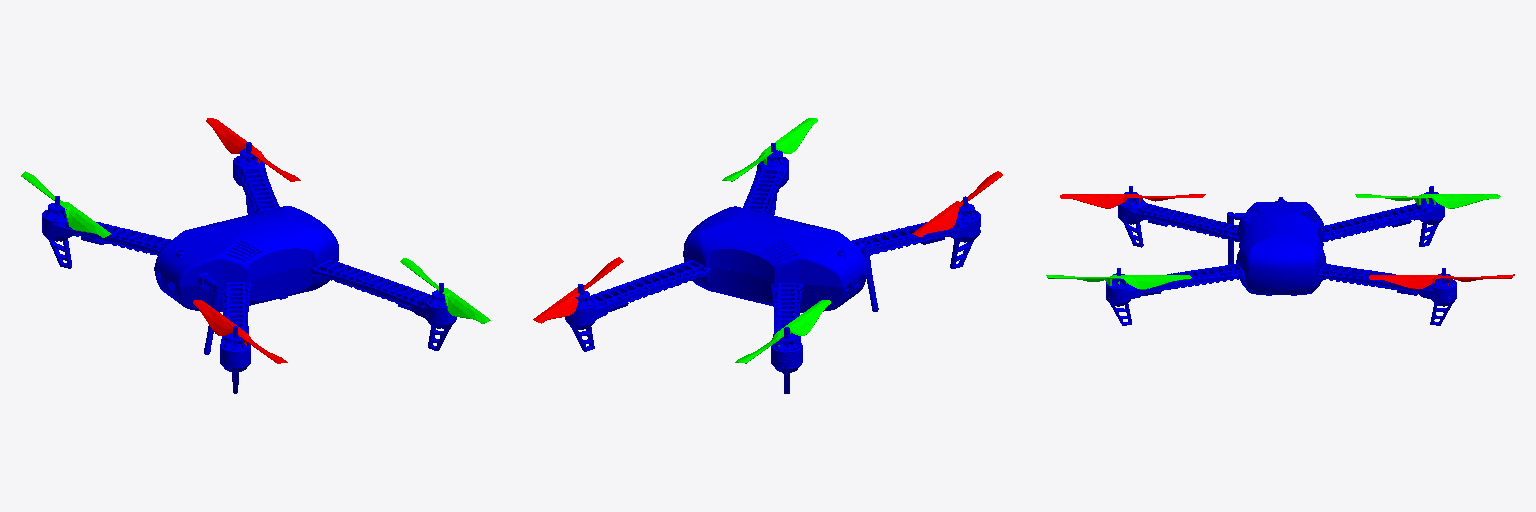
The robot description file, URDF, robot "iris":
<?xml version="1.0" ?>
<!-- =================================================================================== -->
<!-- |    This document was autogenerated by xacro from [local-path]/project/UAV/pybullet/rotors_simulator/rotors_description/urdf/iris.xacro | -->
<!-- |    EDITING THIS FILE BY HAND IS NOT RECOMMENDED                                 | -->
<!-- =================================================================================== -->
<robot name="iris">
  <link name="iris/base_link"/>
  <joint name="iris/base_joint" type="fixed">
    <origin rpy="0 0 0" xyz="0 0 0"/>
    <parent link="iris/base_link"/>
    <child link="iris/base_link_inertia"/>
  </joint>
  <link name="iris/base_link_inertia">
    <inertial>
      <mass value="1.5"/>
      <!-- [kg] -->
      <origin xyz="0 0 0"/>
      <inertia ixx="0.0347563" ixy="0.0" ixz="0.0" iyy="0.0458929" iyz="0.0" izz="0.0977"/>
    </inertial>
    <visual>
      <origin rpy="0 0 0" xyz="0 0 0"/>
      <geometry>
        <mesh filename="meshes/iris.dae" scale="1 1 1"/>
      </geometry>
      <material name="blue">
        <color rgba="0 0 1 1"/>
      </material>
    </visual>
    <collision>
      <origin rpy="0 0 0" xyz="0 0 0"/>
      <geometry>
        <box size="0.47 0.47 0.11"/>
        <!-- [m] [m] [m] -->
      </geometry>
    </collision>
  </link>
  <!-- attach multirotor_base_plugin to the base_link -->
  <gazebo>
    <plugin filename="librotors_gazebo_multirotor_base_plugin.so" name="multirotor_base_plugin">
      <robotNamespace>iris</robotNamespace>
      <linkName>iris/base_link</linkName>
      <rotorVelocitySlowdownSim>10</rotorVelocitySlowdownSim>
    </plugin>
  </gazebo>
  <joint name="iris/rotor_0_joint" type="continuous">
    <origin rpy="0 0 0" xyz="0.13 -0.22 0.023"/>
    <axis xyz="0 0 1"/>
    <!-- TODO(ff): not currently set because it's not yet supported -->
    <!-- <limit effort="2000" velocity="${max_rot_velocity}" /> -->
    <parent link="iris/base_link"/>
    <child link="iris/rotor_0"/>
  </joint>
  <link name="iris/rotor_0">
    <inertial>
      <mass value="0.00005"/>
      <!-- [kg] -->
      <inertia ixx="9.7499961e-07" ixy="0.0" ixz="0.0" iyy="4.170414998500001e-05" iyz="0.0" izz="4.2604149625000006e-05"/>
    </inertial>
    <visual>
      <geometry>
        <mesh filename="meshes/propeller_ccw.dae" scale="0.1 0.1 0.1"/>
        <!-- The propeller meshes have a radius of 1m -->
        <!-- <box size="${2*radius_rotor} 0.01 0.005"/> -->
      </geometry>
      <material name="green">
        <color rgba="0 1 0 1"/>
      </material>
    </visual>
    <collision>
      <geometry>
        <cylinder length="0.005" radius="0.1"/>
        <!-- [m] -->
      </geometry>
    </collision>
  </link>
  <gazebo>
    <plugin filename="librotors_gazebo_motor_model.so" name="iris_front_right_motor_model">
      <robotNamespace>iris</robotNamespace>
      <jointName>iris/rotor_0_joint</jointName>
      <linkName>iris/rotor_0</linkName>
      <turningDirection>ccw</turningDirection>
      <timeConstantUp>0.0125</timeConstantUp>
      <timeConstantDown>0.025</timeConstantDown>
      <maxRotVelocity>838</maxRotVelocity>
      <motorConstant>8.54858e-06</motorConstant>
      <momentConstant>0.016</momentConstant>
      <commandSubTopic>gazebo/command/motor_speed</commandSubTopic>
      <motorNumber>0</motorNumber>
      <rotorDragCoefficient>8.06428e-05</rotorDragCoefficient>
      <rollingMomentCoefficient>1e-06</rollingMomentCoefficient>
      <motorSpeedPubTopic>motor_speed/0</motorSpeedPubTopic>
      <rotorVelocitySlowdownSim>10</rotorVelocitySlowdownSim>
    </plugin>
  </gazebo>
  <gazebo reference="iris/rotor_0">
    <material>Gazebo/Blue</material>
  </gazebo>
  <joint name="iris/rotor_1_joint" type="continuous">
    <origin rpy="0 0 0" xyz="-0.13 0.2 0.023"/>
    <axis xyz="0 0 1"/>
    <!-- TODO(ff): not currently set because it's not yet supported -->
    <!-- <limit effort="2000" velocity="${max_rot_velocity}" /> -->
    <parent link="iris/base_link"/>
    <child link="iris/rotor_1"/>
  </joint>
  <link name="iris/rotor_1">
    <inertial>
      <mass value="0.00005"/>
      <!-- [kg] -->
      <inertia ixx="9.7499961e-07" ixy="0.0" ixz="0.0" iyy="4.170414998500001e-05" iyz="0.0" izz="4.2604149625000006e-05"/>
    </inertial>
    <visual>
      <geometry>
        <mesh filename="meshes/propeller_ccw.dae" scale="0.1 0.1 0.1"/>
        <!-- The propeller meshes have a radius of 1m -->
        <!-- <box size="${2*radius_rotor} 0.01 0.005"/> -->
      </geometry>
      <material name="green">
        <color rgba="0 1 0 1"/>
      </material>
    </visual>
    <collision>
      <geometry>
        <cylinder length="0.005" radius="0.1"/>
        <!-- [m] -->
      </geometry>
    </collision>
  </link>
  <gazebo>
    <plugin filename="librotors_gazebo_motor_model.so" name="iris_back_left_motor_model">
      <robotNamespace>iris</robotNamespace>
      <jointName>iris/rotor_1_joint</jointName>
      <linkName>iris/rotor_1</linkName>
      <turningDirection>ccw</turningDirection>
      <timeConstantUp>0.0125</timeConstantUp>
      <timeConstantDown>0.025</timeConstantDown>
      <maxRotVelocity>838</maxRotVelocity>
      <motorConstant>8.54858e-06</motorConstant>
      <momentConstant>0.016</momentConstant>
      <commandSubTopic>gazebo/command/motor_speed</commandSubTopic>
      <motorNumber>1</motorNumber>
      <rotorDragCoefficient>8.06428e-05</rotorDragCoefficient>
      <rollingMomentCoefficient>1e-06</rollingMomentCoefficient>
      <motorSpeedPubTopic>motor_speed/1</motorSpeedPubTopic>
      <rotorVelocitySlowdownSim>10</rotorVelocitySlowdownSim>
    </plugin>
  </gazebo>
  <gazebo reference="iris/rotor_1">
    <material>Gazebo/Red</material>
  </gazebo>
  <joint name="iris/rotor_2_joint" type="continuous">
    <origin rpy="0 0 0" xyz="0.13 0.22 0.023"/>
    <axis xyz="0 0 1"/>
    <!-- TODO(ff): not currently set because it's not yet supported -->
    <!-- <limit effort="2000" velocity="${max_rot_velocity}" /> -->
    <parent link="iris/base_link"/>
    <child link="iris/rotor_2"/>
  </joint>
  <link name="iris/rotor_2">
    <inertial>
      <mass value="0.00005"/>
      <!-- [kg] -->
      <inertia ixx="9.7499961e-07" ixy="0.0" ixz="0.0" iyy="4.170414998500001e-05" iyz="0.0" izz="4.2604149625000006e-05"/>
    </inertial>
    <visual>
      <geometry>
        <mesh filename="meshes/propeller_cw.dae" scale="0.1 0.1 0.1"/>
        <!-- The propeller meshes have a radius of 1m -->
        <!-- <box size="${2*radius_rotor} 0.01 0.005"/> -->
      </geometry>
      <material name="red">
        <color rgba="1 0 0 1"/>
      </material>
    </visual>
    <collision>
      <geometry>
        <cylinder length="0.005" radius="0.1"/>
        <!-- [m] -->
      </geometry>
    </collision>
  </link>
  <gazebo>
    <plugin filename="librotors_gazebo_motor_model.so" name="iris_front_left_motor_model">
      <robotNamespace>iris</robotNamespace>
      <jointName>iris/rotor_2_joint</jointName>
      <linkName>iris/rotor_2</linkName>
      <turningDirection>cw</turningDirection>
      <timeConstantUp>0.0125</timeConstantUp>
      <timeConstantDown>0.025</timeConstantDown>
      <maxRotVelocity>838</maxRotVelocity>
      <motorConstant>8.54858e-06</motorConstant>
      <momentConstant>0.016</momentConstant>
      <commandSubTopic>gazebo/command/motor_speed</commandSubTopic>
      <motorNumber>2</motorNumber>
      <rotorDragCoefficient>8.06428e-05</rotorDragCoefficient>
      <rollingMomentCoefficient>1e-06</rollingMomentCoefficient>
      <motorSpeedPubTopic>motor_speed/2</motorSpeedPubTopic>
      <rotorVelocitySlowdownSim>10</rotorVelocitySlowdownSim>
    </plugin>
  </gazebo>
  <gazebo reference="iris/rotor_2">
    <material>Gazebo/Blue</material>
  </gazebo>
  <joint name="iris/rotor_3_joint" type="continuous">
    <origin rpy="0 0 0" xyz="-0.13 -0.2 0.023"/>
    <axis xyz="0 0 1"/>
    <!-- TODO(ff): not currently set because it's not yet supported -->
    <!-- <limit effort="2000" velocity="${max_rot_velocity}" /> -->
    <parent link="iris/base_link"/>
    <child link="iris/rotor_3"/>
  </joint>
  <link name="iris/rotor_3">
    <inertial>
      <mass value="0.00005"/>
      <!-- [kg] -->
      <inertia ixx="9.7499961e-07" ixy="0.0" ixz="0.0" iyy="4.170414998500001e-05" iyz="0.0" izz="4.2604149625000006e-05"/>
    </inertial>
    <visual>
      <geometry>
        <mesh filename="meshes/propeller_cw.dae" scale="0.1 0.1 0.1"/>
        <!-- The propeller meshes have a radius of 1m -->
        <!-- <box size="${2*radius_rotor} 0.01 0.005"/> -->
      </geometry>
      <material name="red">
        <color rgba="1 0 0 1"/>
      </material>
    </visual>
    <collision>
      <geometry>
        <cylinder length="0.005" radius="0.1"/>
        <!-- [m] -->
      </geometry>
    </collision>
  </link>
  <gazebo>
    <plugin filename="librotors_gazebo_motor_model.so" name="iris_back_right_motor_model">
      <robotNamespace>iris</robotNamespace>
      <jointName>iris/rotor_3_joint</jointName>
      <linkName>iris/rotor_3</linkName>
      <turningDirection>cw</turningDirection>
      <timeConstantUp>0.0125</timeConstantUp>
      <timeConstantDown>0.025</timeConstantDown>
      <maxRotVelocity>838</maxRotVelocity>
      <motorConstant>8.54858e-06</motorConstant>
      <momentConstant>0.016</momentConstant>
      <commandSubTopic>gazebo/command/motor_speed</commandSubTopic>
      <motorNumber>3</motorNumber>
      <rotorDragCoefficient>8.06428e-05</rotorDragCoefficient>
      <rollingMomentCoefficient>1e-06</rollingMomentCoefficient>
      <motorSpeedPubTopic>motor_speed/3</motorSpeedPubTopic>
      <rotorVelocitySlowdownSim>10</rotorVelocitySlowdownSim>
    </plugin>
  </gazebo>
  <gazebo reference="iris/rotor_3">
    <material>Gazebo/Red</material>
  </gazebo>
</robot>

--- Render facts (derived) ---
3 views of the same robot in one strip: view 1: azimuth 30°, elevation 25°; view 2: azimuth 150°, elevation 25°; view 3: azimuth 270°, elevation 25° (orthographic).
Robot: iris — 6 links, 5 joints (4 continuous, 1 fixed); root link iris/base_link; default pose: all joints at 0.
Links seen in each view (by area): view 1: iris/base_link_inertia, iris/rotor_3, iris/rotor_0, iris/rotor_1, iris/rotor_2; view 2: iris/base_link_inertia, iris/rotor_0, iris/rotor_1, iris/rotor_3, iris/rotor_2; view 3: iris/base_link_inertia, iris/rotor_1, iris/rotor_0, iris/rotor_3, iris/rotor_2.
Link boxes in pixels (x1,y1,x2,y2): iris/base_link_inertia: (42,142,456,393); iris/rotor_3: (193,300,287,363); iris/rotor_0: (400,258,490,323); iris/rotor_1: (21,171,111,237); iris/rotor_2: (206,118,300,181); iris/base_link_inertia: (565,143,980,393); iris/rotor_0: (722,118,817,181); iris/rotor_1: (735,300,830,363); iris/rotor_3: (912,171,1002,236); iris/rotor_2: (533,257,623,323); iris/base_link_inertia: (1106,186,1456,325); iris/rotor_1: (1355,194,1500,208); iris/rotor_0: (1046,275,1191,289); iris/rotor_3: (1060,194,1205,208); iris/rotor_2: (1369,274,1514,289).
Bounding box of the posed robot: 0.2994 × 0.6404 × 0.1137 m (x, y, z).
5 mesh visuals loaded from 3 distinct referenced files (3 Collada DAE).
